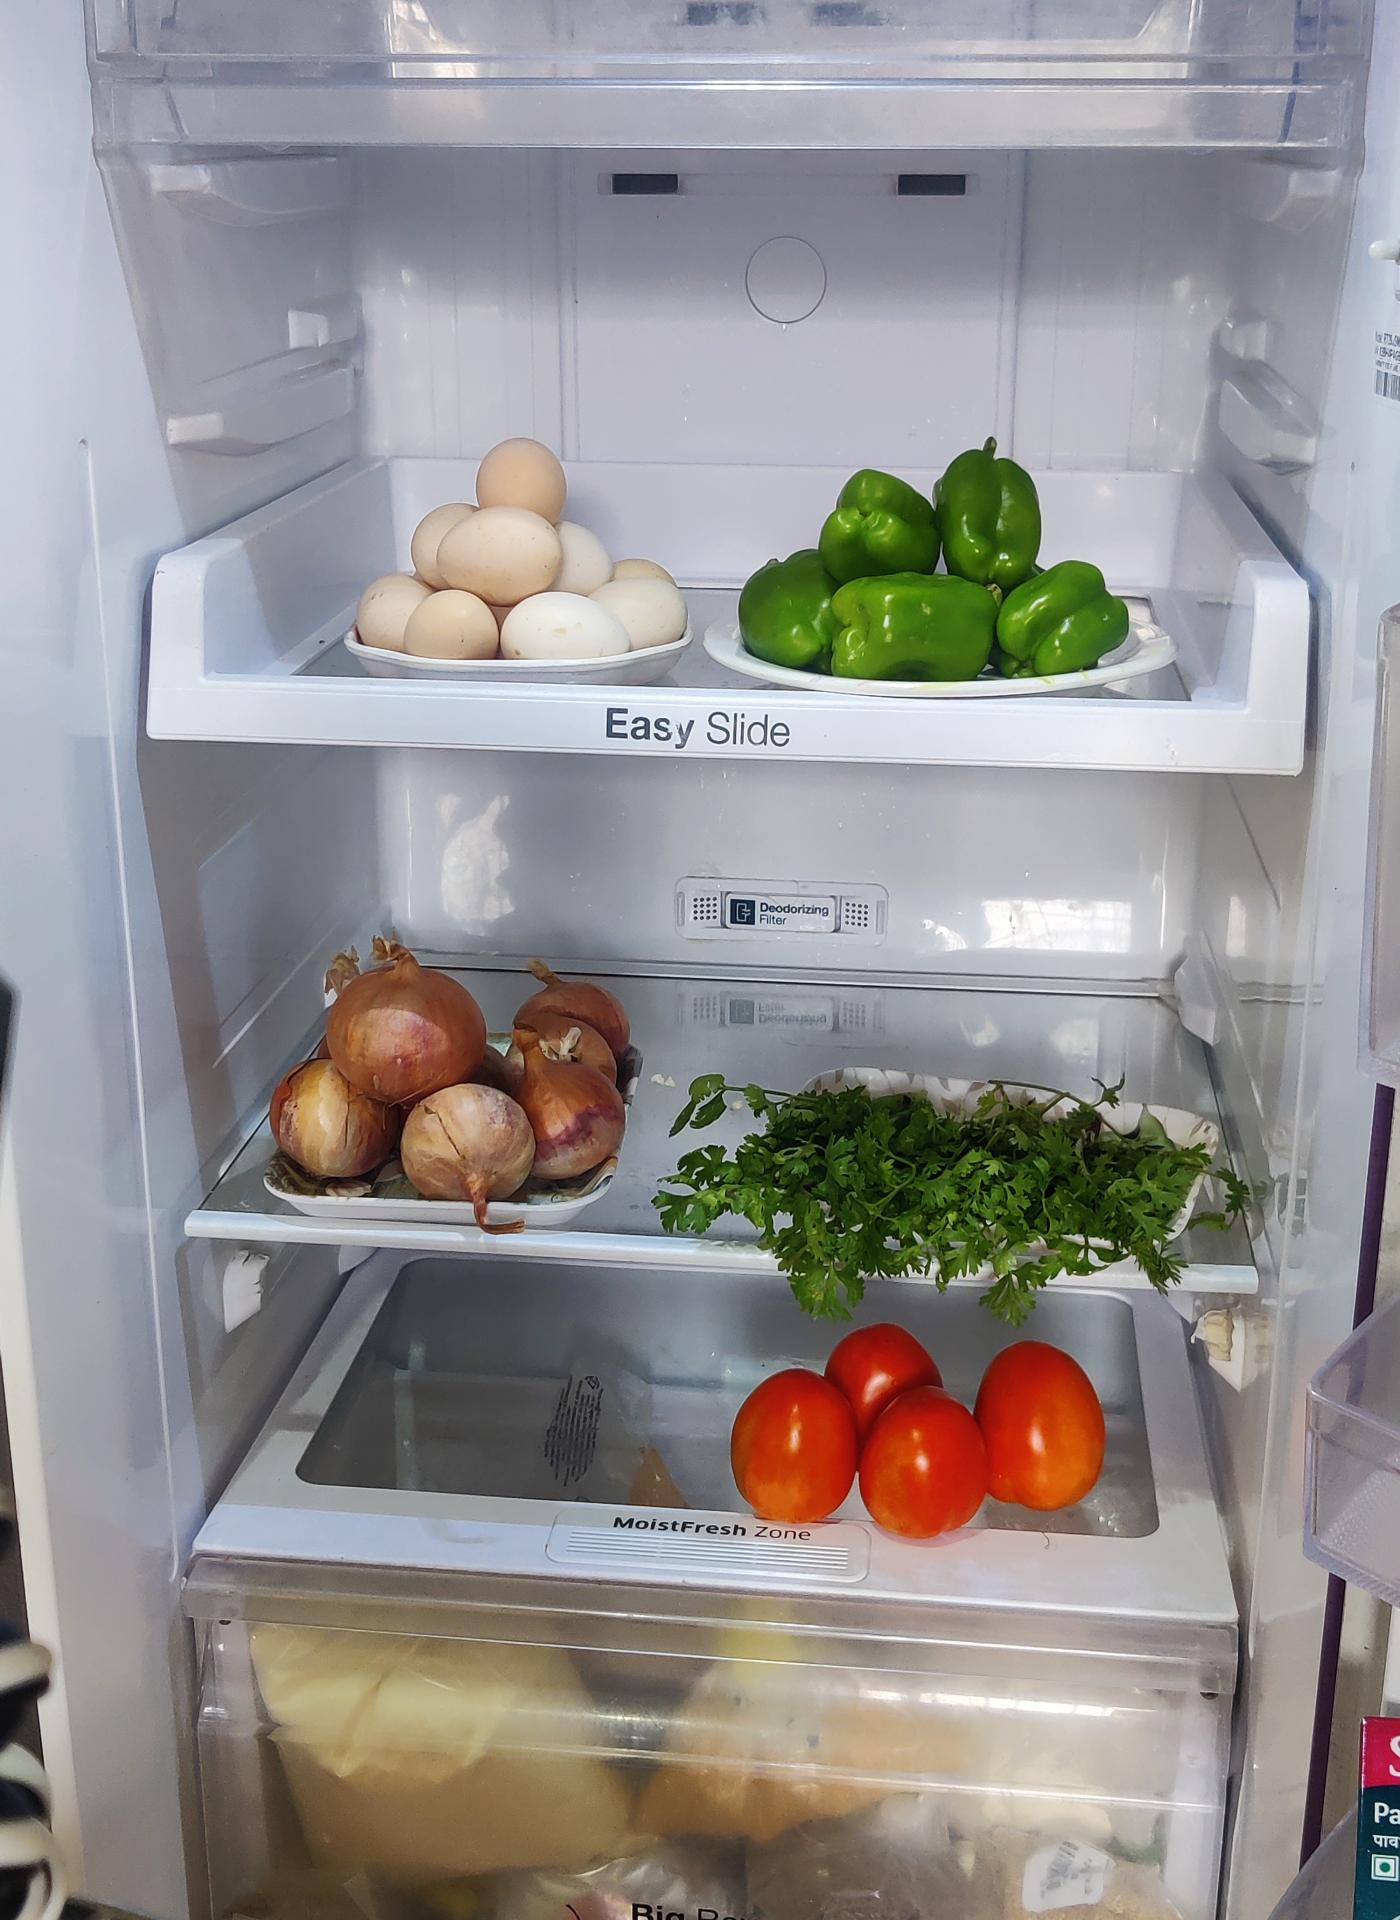capsicum: (738, 450, 1145, 686)
coriander: (681, 1085, 1206, 1313)
egg: (344, 431, 684, 665)
onion: (268, 929, 638, 1200)
tomato: (732, 1327, 1115, 1540)
